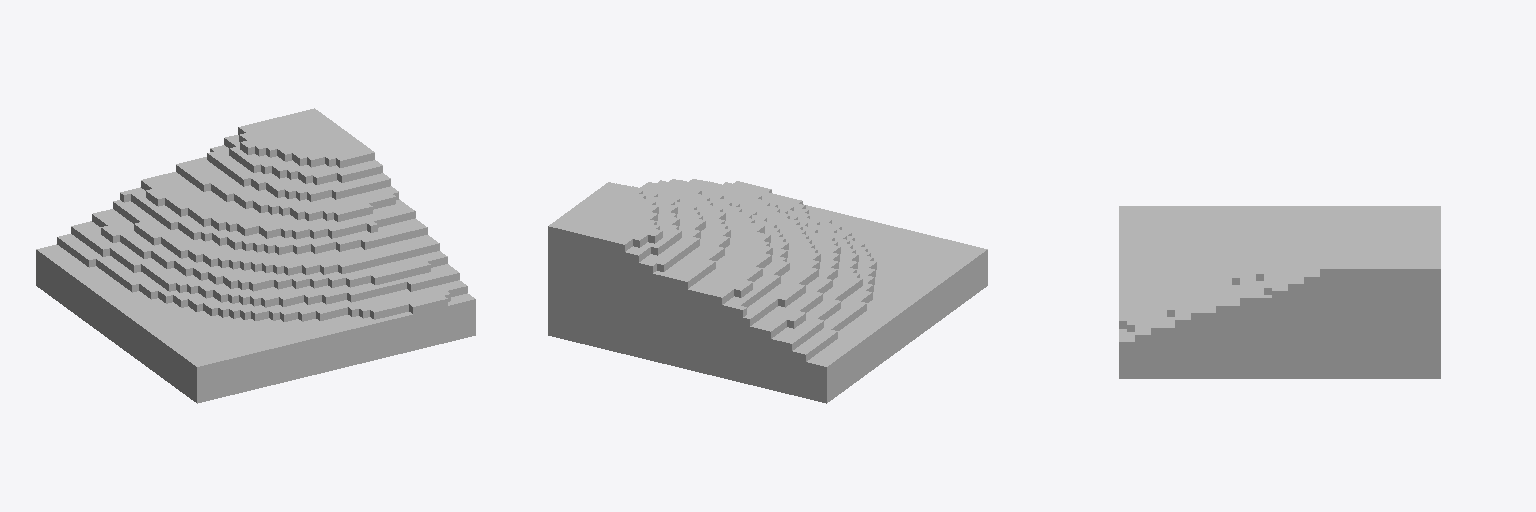
Rendered from ElevCurveEE.obj.
3 renders of one model, left to right at view 1: azimuth 30°, elevation 25°; view 2: azimuth 150°, elevation 25°; view 3: azimuth 270°, elevation 25°, orthographic.
Visible parts, largest first — view 1: Untitled; view 2: Untitled; view 3: Untitled.
Boxes of the visible parts, <box> form: Untitled: <box>36,108,475,403</box>; Untitled: <box>548,179,987,403</box>; Untitled: <box>1119,206,1440,378</box>.
Size of the model in its own units: 4 by 1.5 by 4.